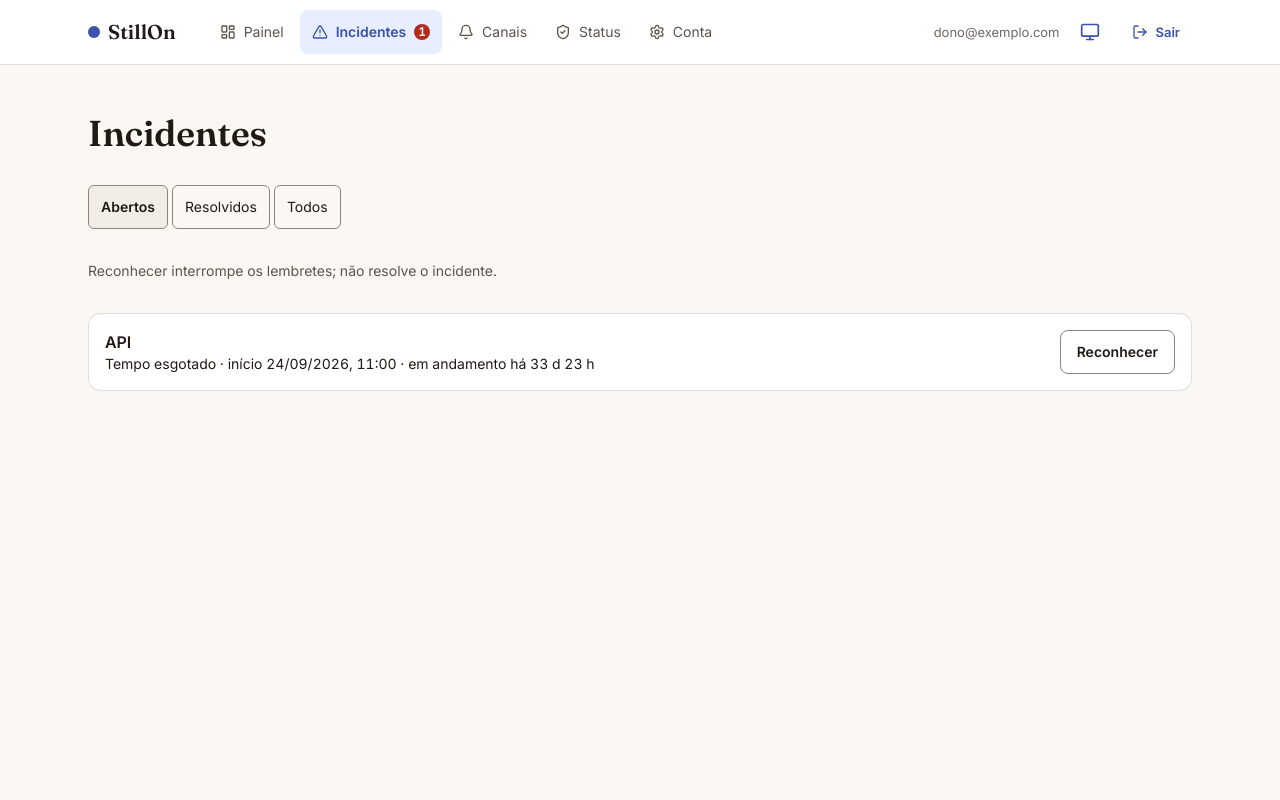
Test: incidentes › ack com 404 explica e relê a lista
Click the button with aria-label "Reconhecer o incidente de API". click: (1117, 352)
box: [1060,330,1175,374]
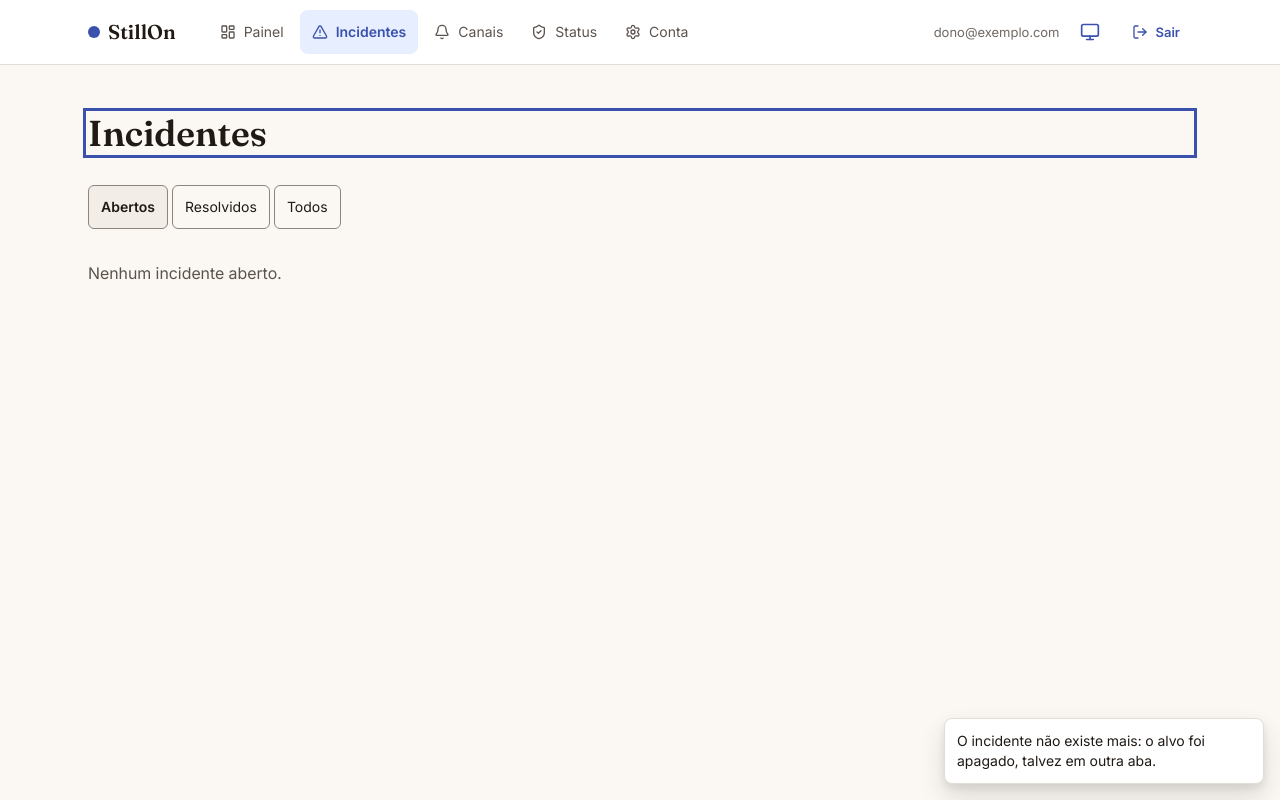
Expected: the text "O incidente não existe mais: o alvo foi apagado, talvez em outra aba." is shown, [957,732,1205,769]
Expected: the text "Nenhum incidente aberto." is shown, [88,263,282,283]
